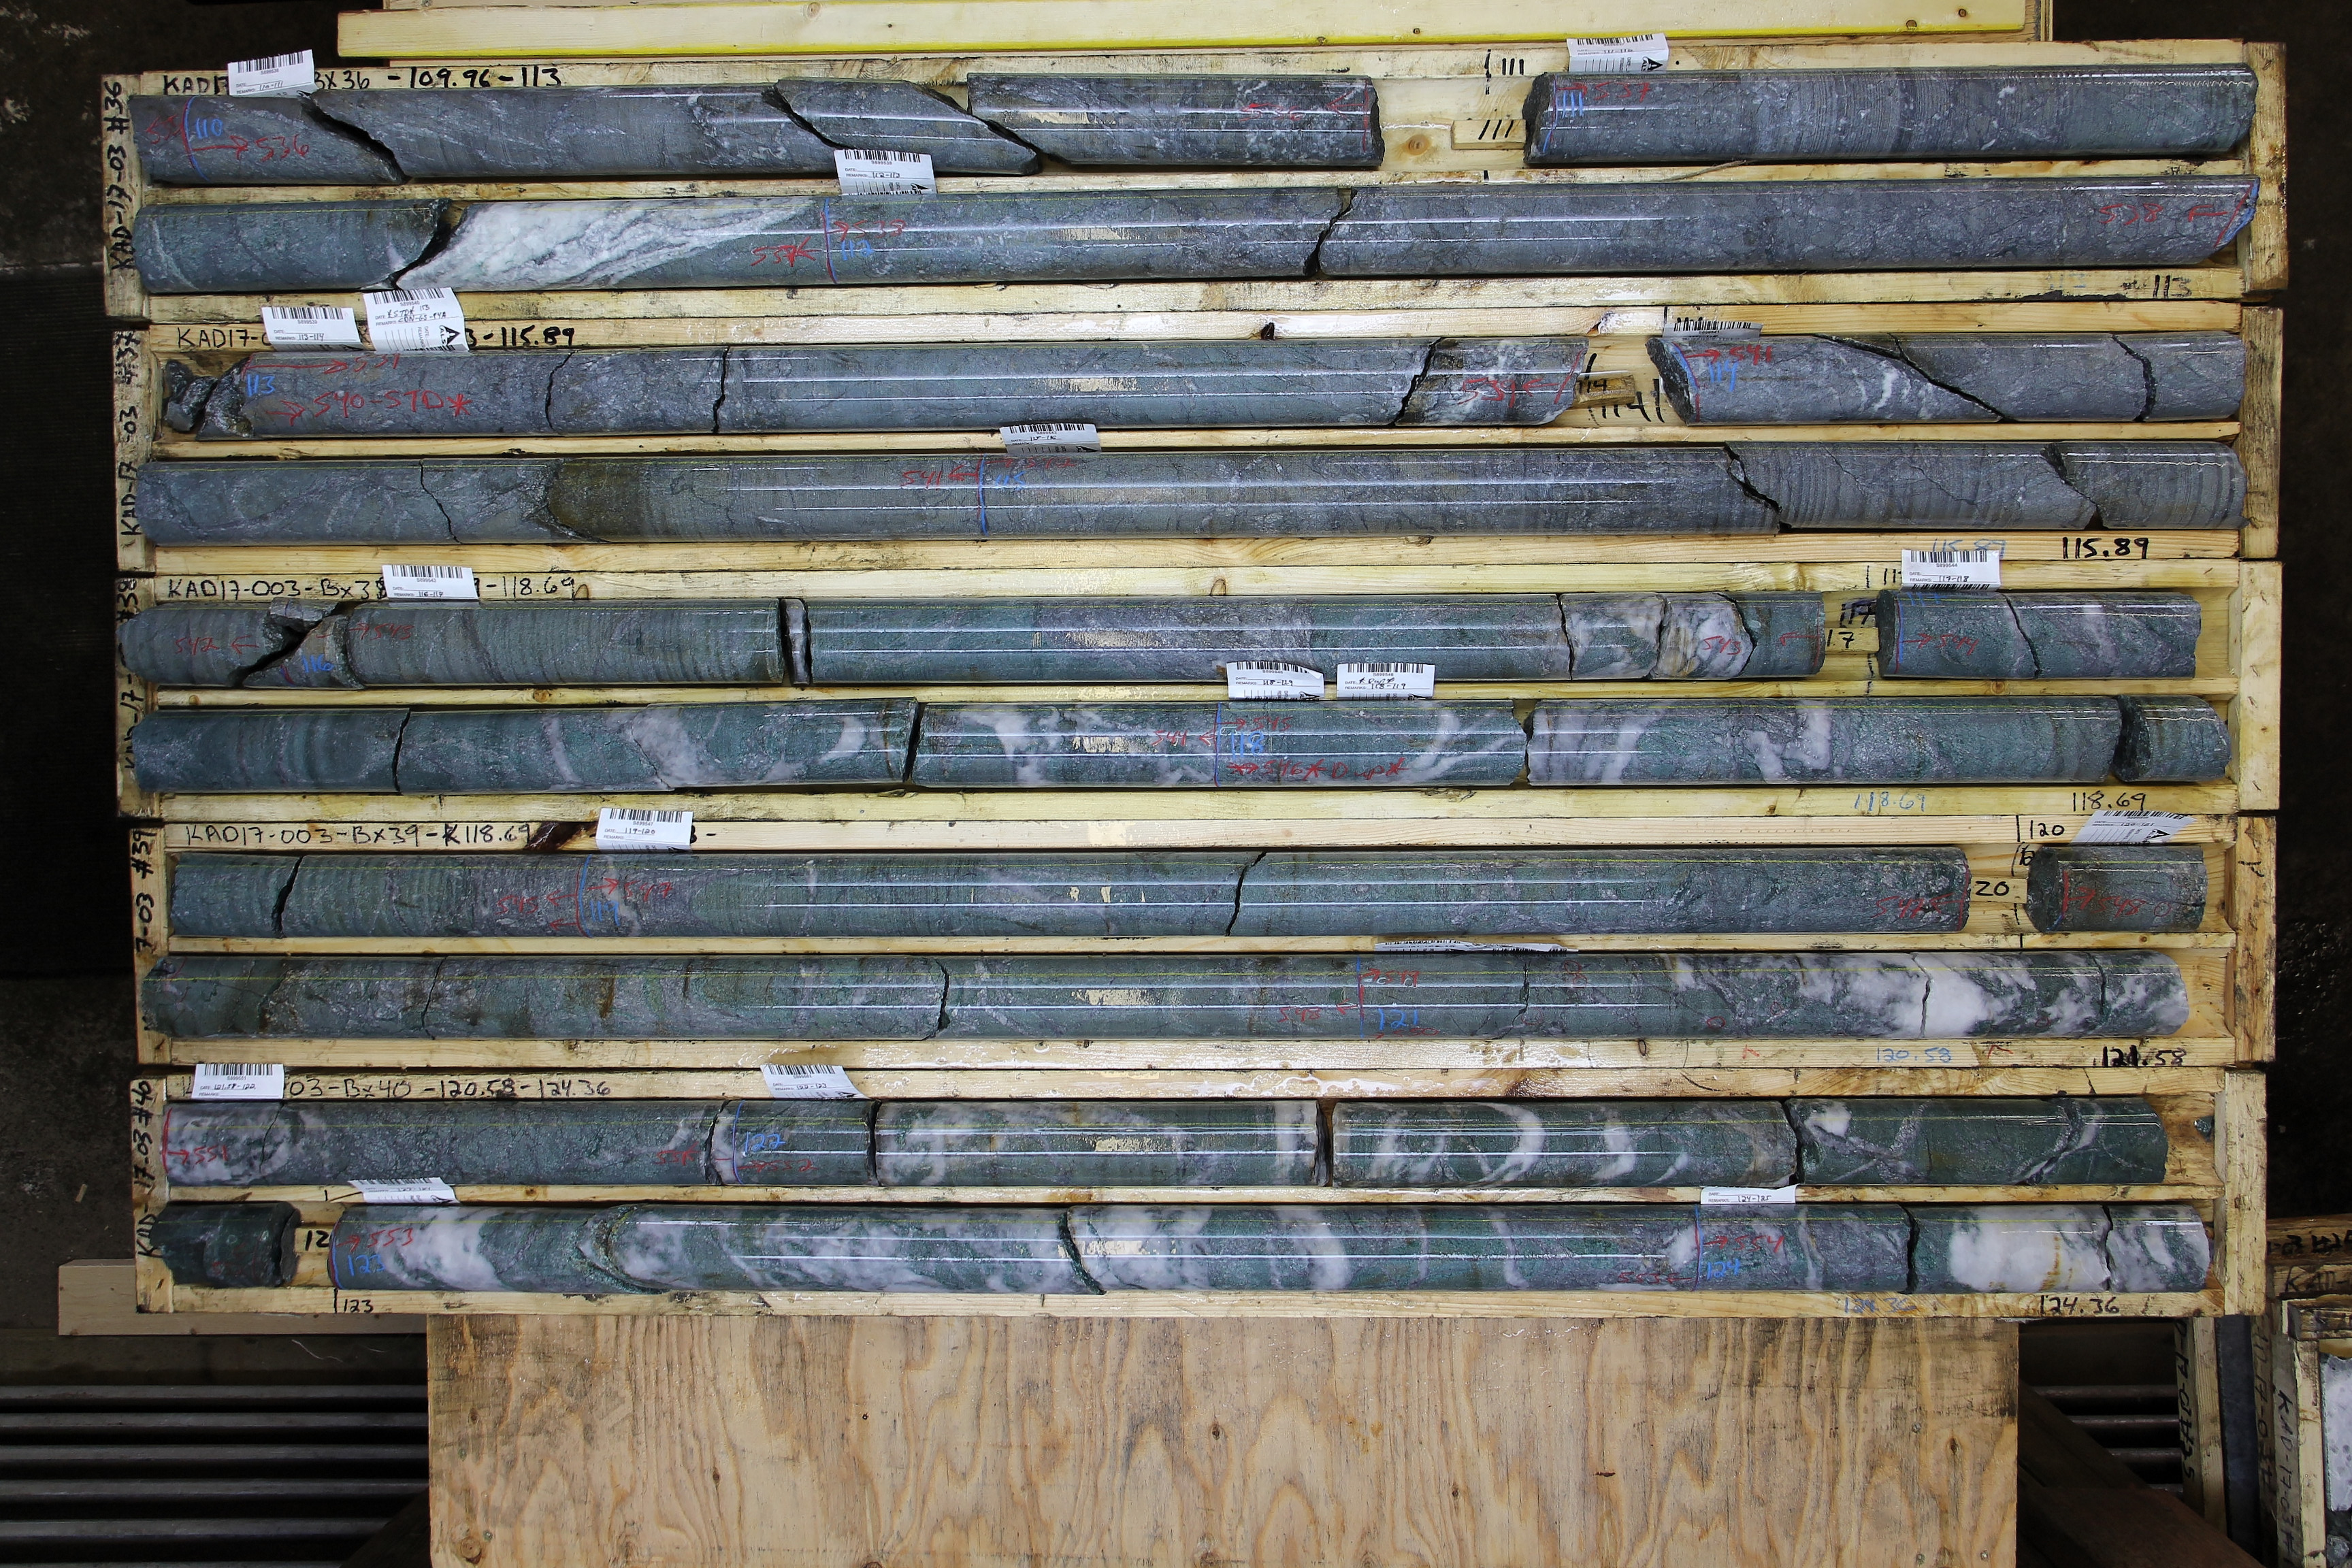rock-KAD17_003-110-111: (195, 78, 1378, 186)
rock-KAD17_003-111-111x: (1534, 67, 2249, 167)
rock-KAD17_003-111x-112: (140, 197, 826, 295)
rock-KAD17_003-112-113: (830, 175, 2244, 284)
rock-KAD17_003-113-114: (239, 342, 1583, 433)
rock-KAD17_003-114-114x: (1660, 333, 2238, 423)
rock-KAD17_003-114x-115: (145, 451, 985, 543)
rock-KAD17_003-115-115x: (990, 439, 2240, 534)
rock-KAD17_003-115x-116: (154, 604, 285, 689)
rock-KAD17_003-116-117: (287, 593, 1829, 687)
rock-KAD17_003-117-117x: (1882, 591, 2198, 678)
rock-KAD17_003-117x-118: (155, 703, 1215, 790)
rock-KAD17_003-118-118x: (1219, 698, 2234, 787)
rock-KAD17_003-118x-119: (169, 852, 580, 934)
rock-KAD17_003-119-120: (584, 849, 1971, 938)
rock-KAD17_003-120-120x: (2037, 842, 2204, 927)
rock-KAD17_003-120x-121: (172, 953, 1357, 1035)
rock-KAD17_003-121-121x: (1360, 953, 2187, 1040)
rock-KAD17_003-121x-122: (170, 1102, 737, 1183)
rock-KAD17_003-122-122x: (740, 1100, 2164, 1187)
rock-KAD17_003-122x-123: (169, 1202, 295, 1285)
rock-KAD17_003-123-124: (336, 1205, 1697, 1290)
rock-KAD17_003-124-124.36: (1699, 1205, 2216, 1288)
